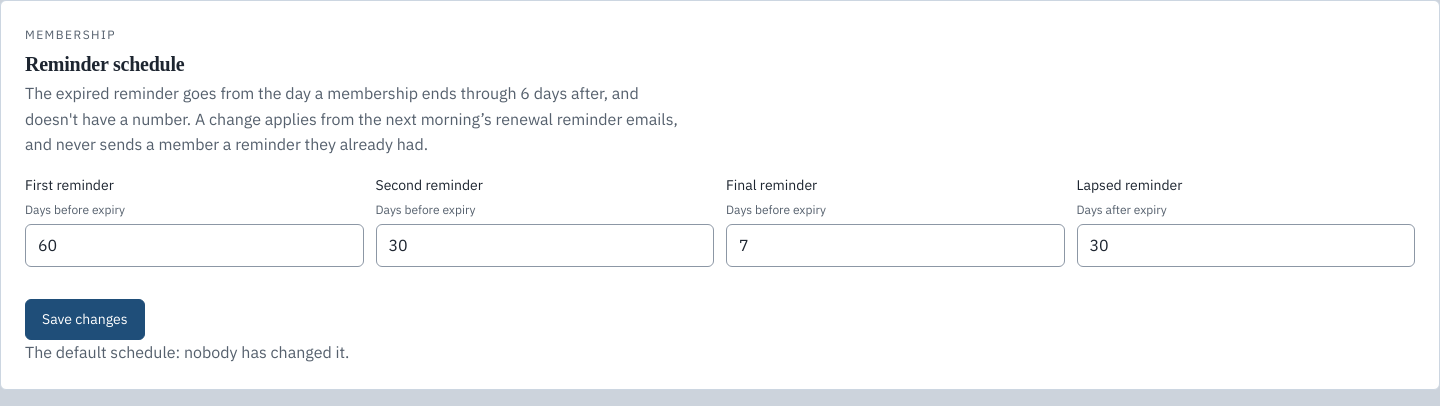
Test case: <ReminderScheduleCard/> › asks for a number in a field left empty, and doesn't send anything
Clear the number field labelled "Second reminder" at [545, 245], box [376,224,714,267]
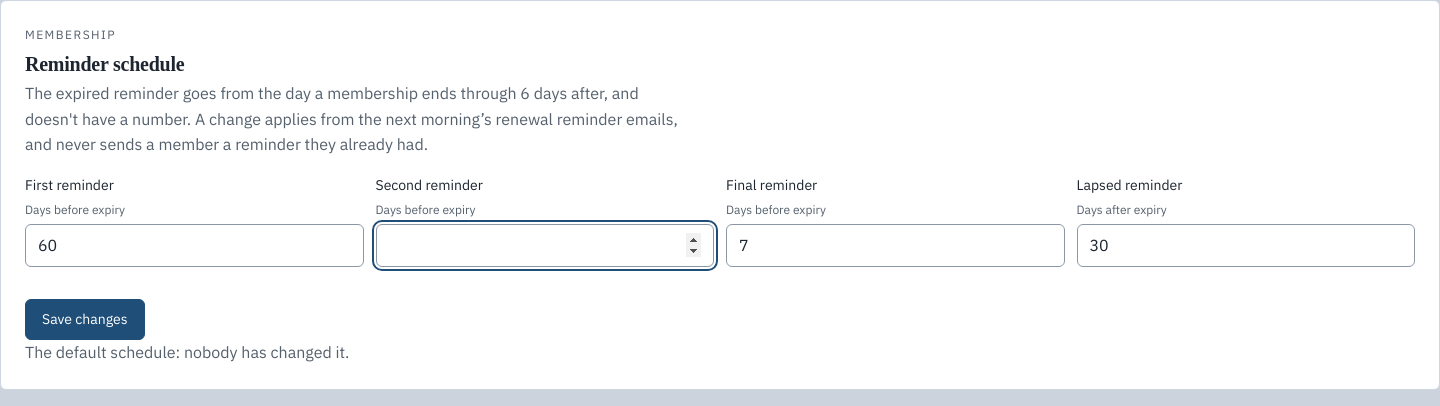
Click the button "Save changes" at [85, 319], box [25,299,144,340]
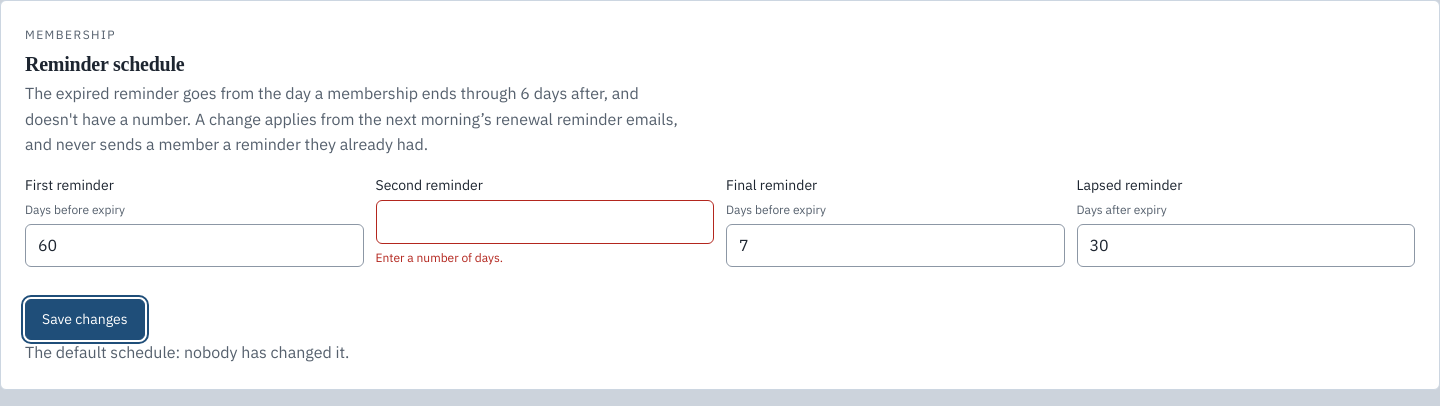
Now the text "Enter a number of days." is shown, box [376,250,503,265]
